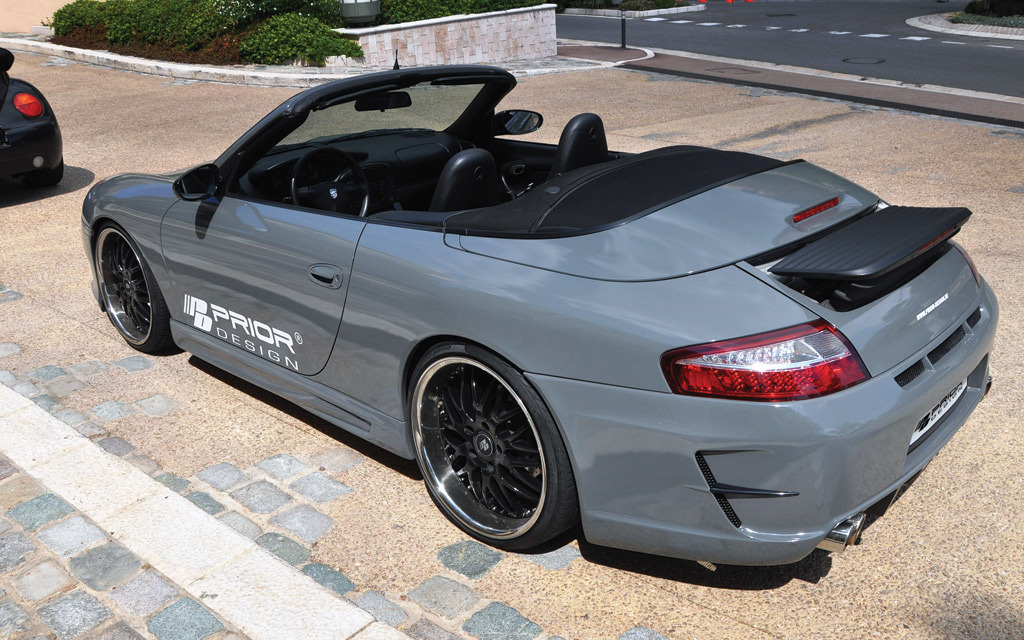Car: (85, 46, 1006, 552), (0, 50, 65, 191)
